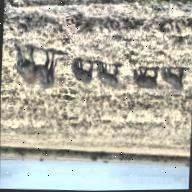boar: (12, 44, 58, 90), (159, 66, 186, 90), (96, 61, 119, 88), (131, 66, 158, 89), (70, 58, 93, 84)
